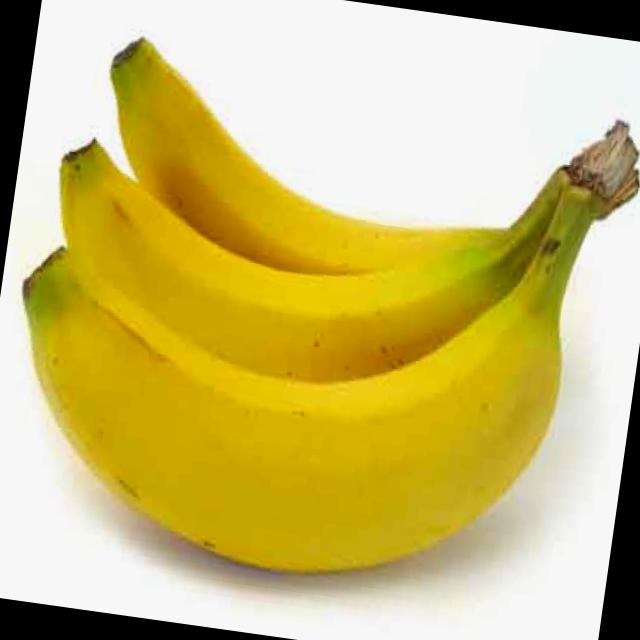banana: (0, 234, 620, 640), (12, 122, 506, 432), (84, 33, 512, 330)
